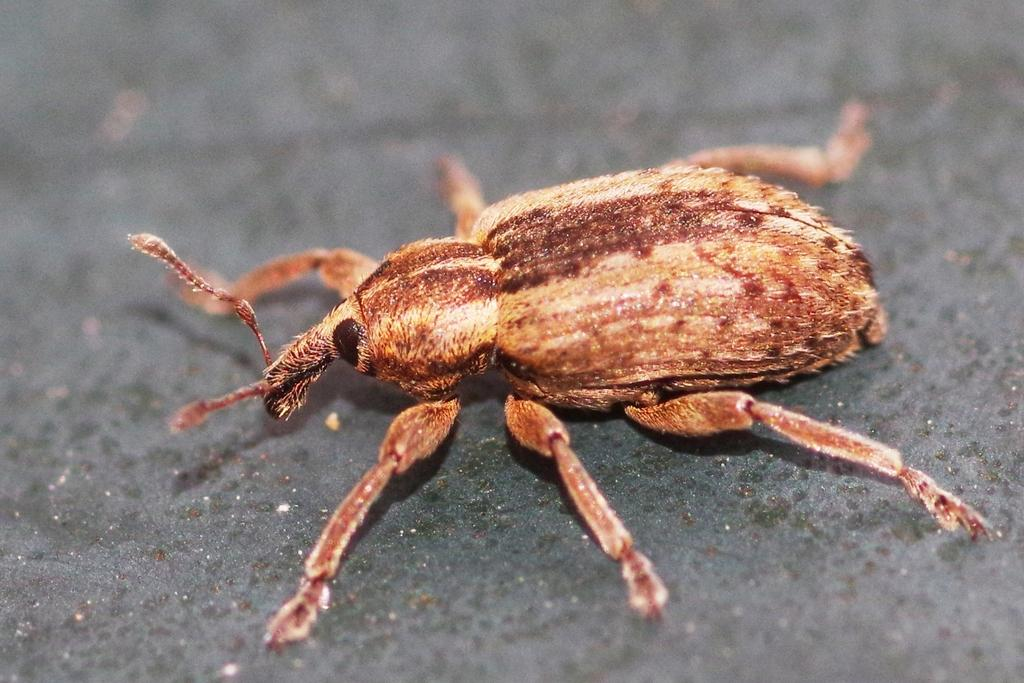weevils: (67, 45, 1024, 683)
